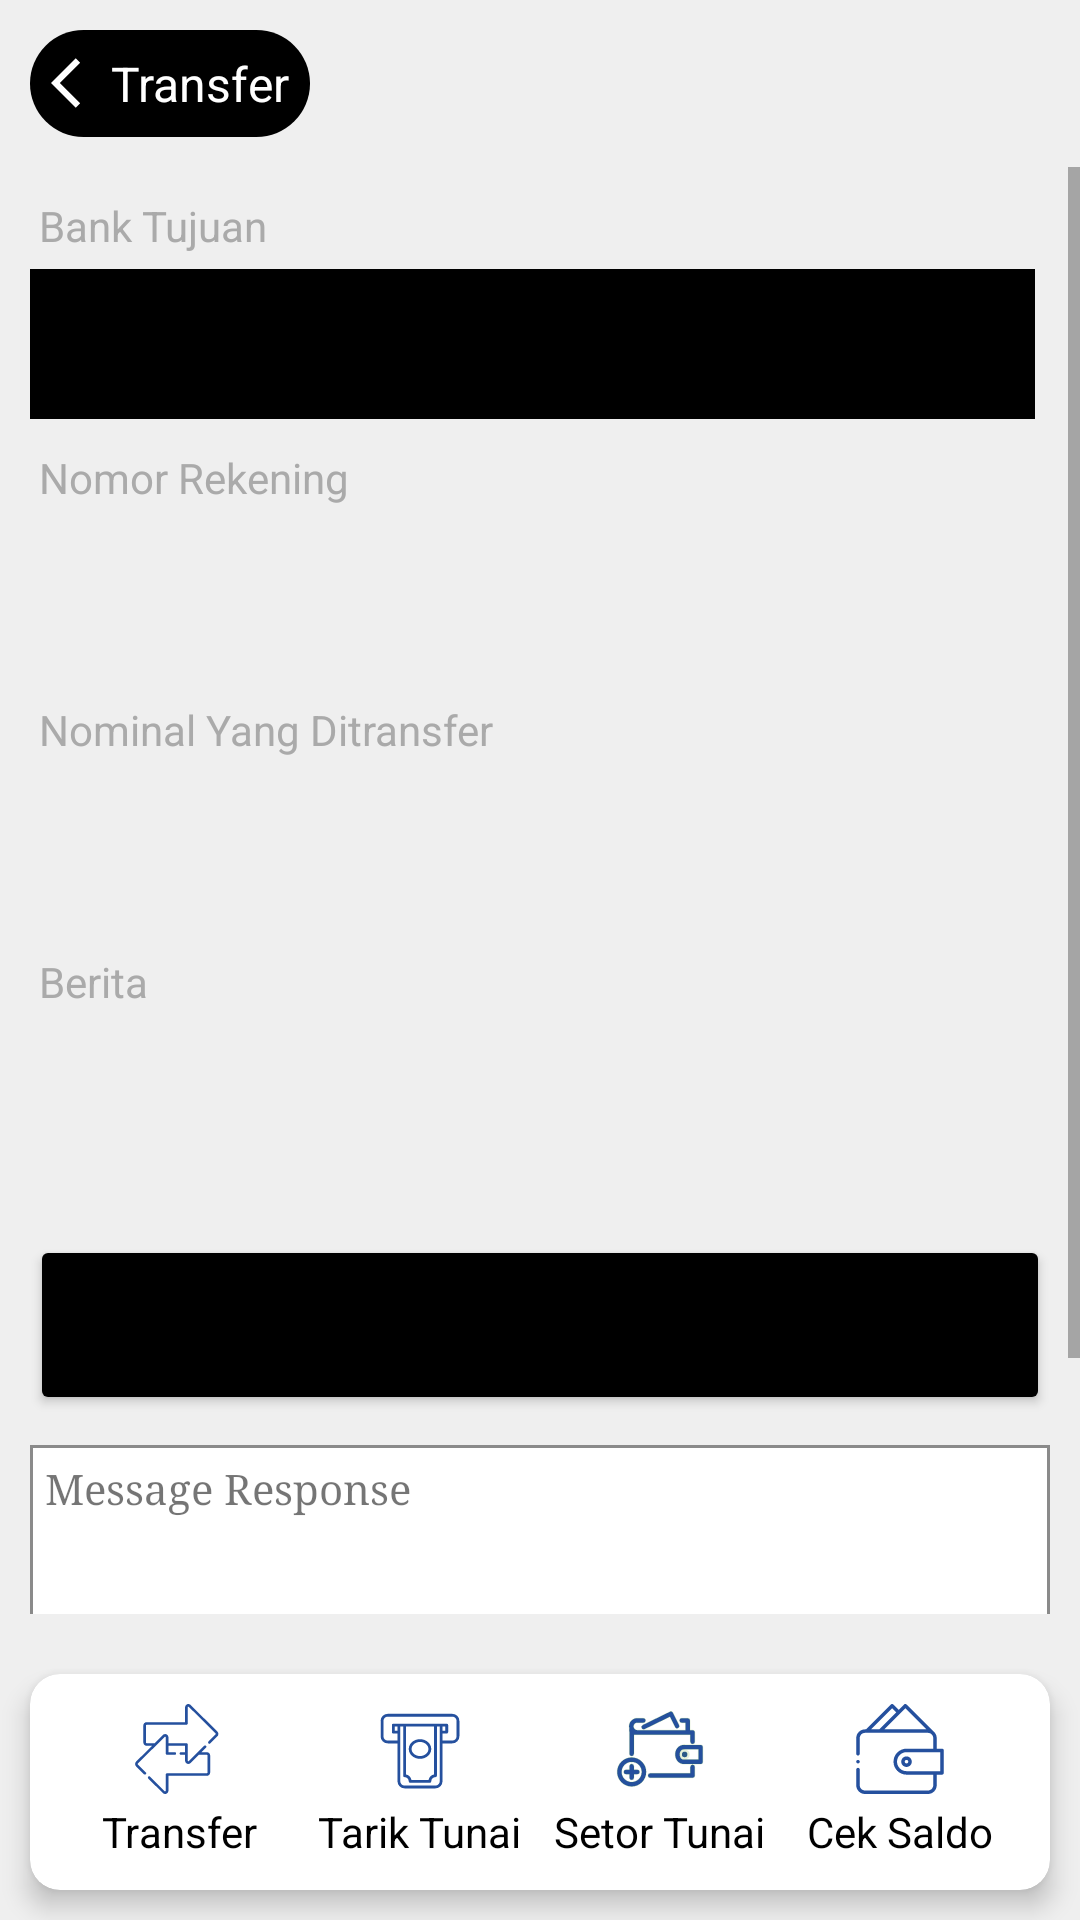

Icons on this 1080*1920 Android screen, each with its box as (x1, y1, x2, y2):
top up: (617, 1711, 703, 1787)
